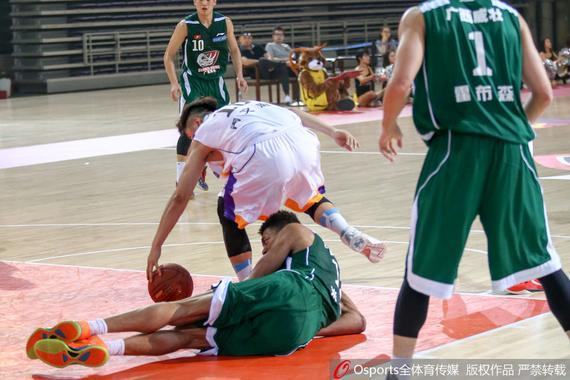10+: (136, 1, 564, 363)
down: (20, 202, 364, 369)
